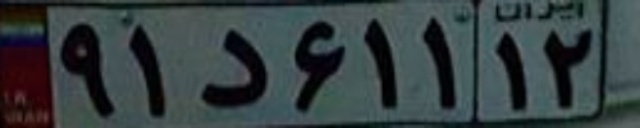1: (413, 15, 456, 109), (128, 21, 168, 117), (360, 16, 400, 108), (491, 29, 527, 111)
2: (540, 27, 597, 108)
6: (290, 19, 349, 114)
9: (57, 20, 117, 117)
dal: (196, 27, 268, 109)
